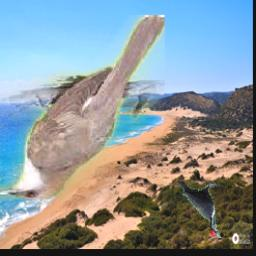Cuckoo: (0, 15, 165, 199)
Woodpecker: (177, 183, 222, 239)
